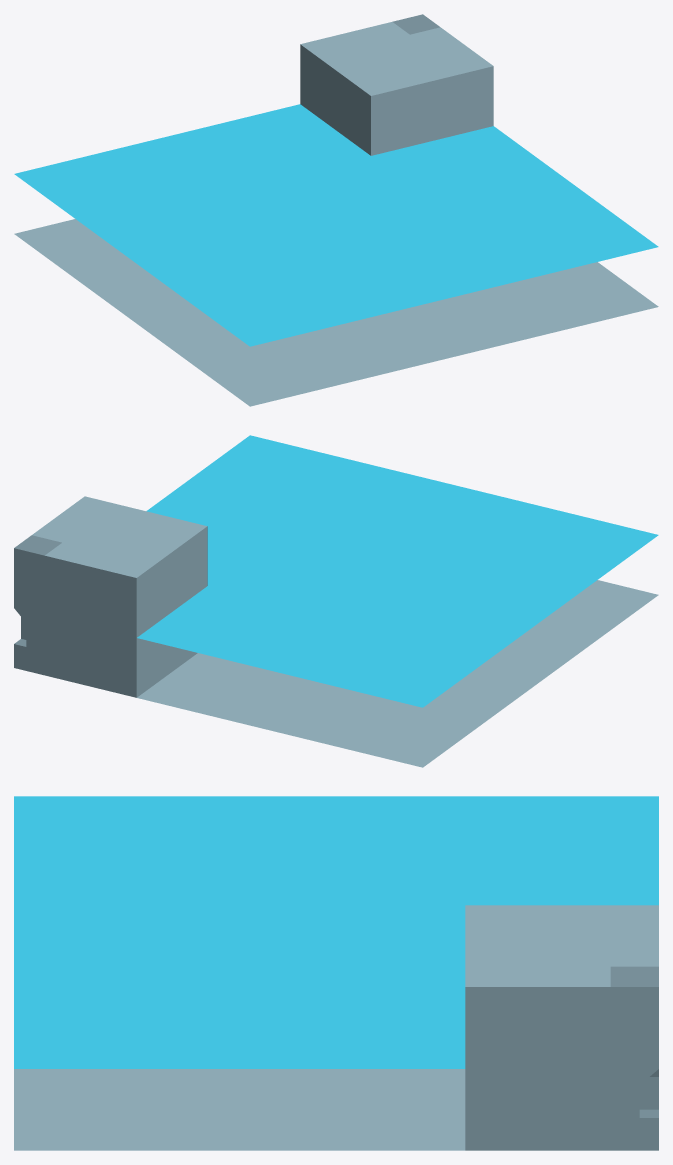
Rendered from fountainCornerInnerSquare.dae.
3 views of the same model, one above another, from view 1: azimuth 30°, elevation 25°; view 2: azimuth 150°, elevation 25°; view 3: azimuth 270°, elevation 25° (orthographic). The views are drawn at different scales.
Parts seen in each view (by area): view 1: fountainCornerInnerSquare; view 2: fountainCornerInnerSquare; view 3: fountainCornerInnerSquare.
Part boxes in pixels (box(x1,y1,x2,y2)): fountainCornerInnerSquare: box(14, 14, 658, 406); fountainCornerInnerSquare: box(14, 435, 658, 767); fountainCornerInnerSquare: box(14, 796, 658, 1150).
Size of the model in its own units: 1 by 0.28 by 1.
